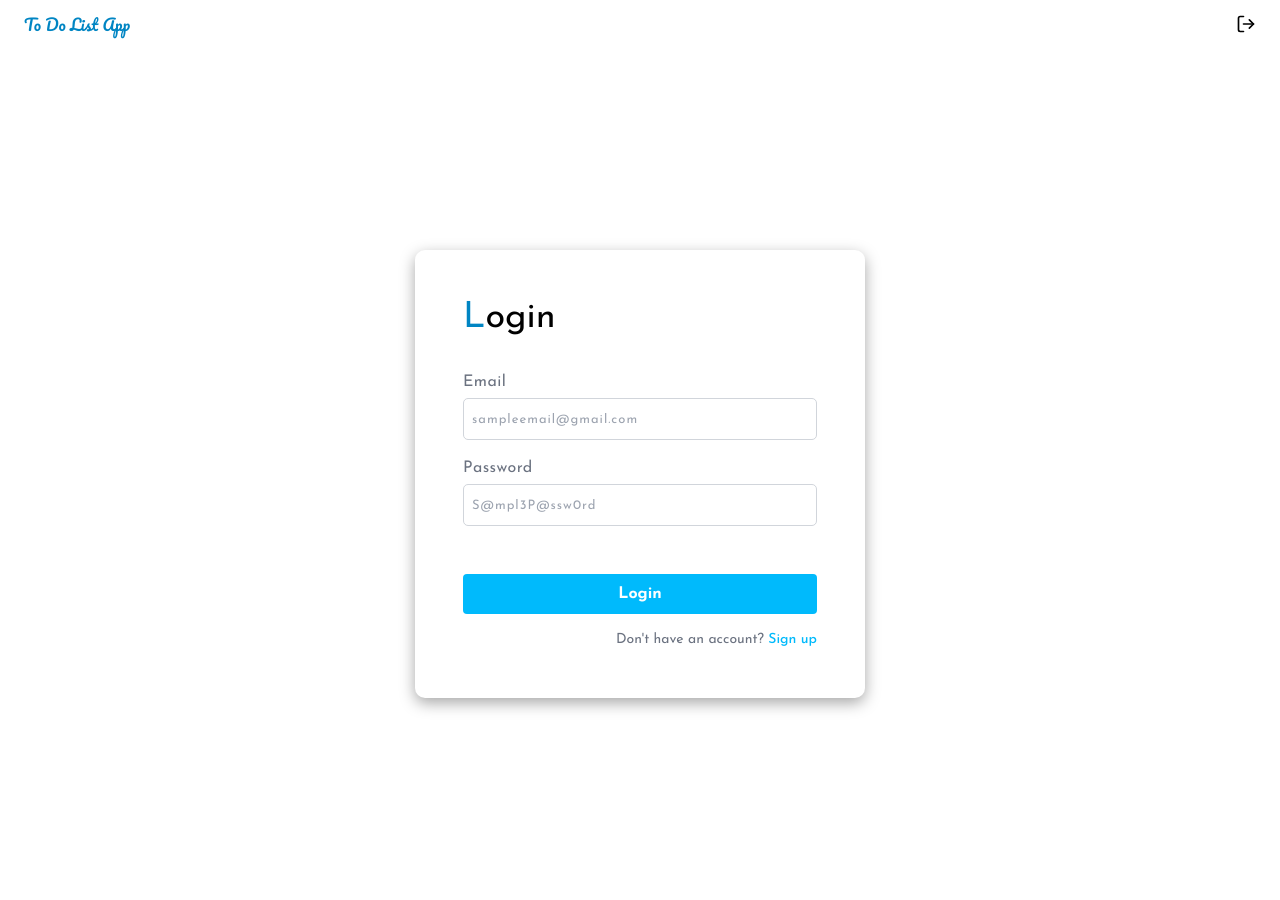
Test case: Login View › display error on empty email
Click the button "Login". click: (640, 594)
box: [463,574,817,614]
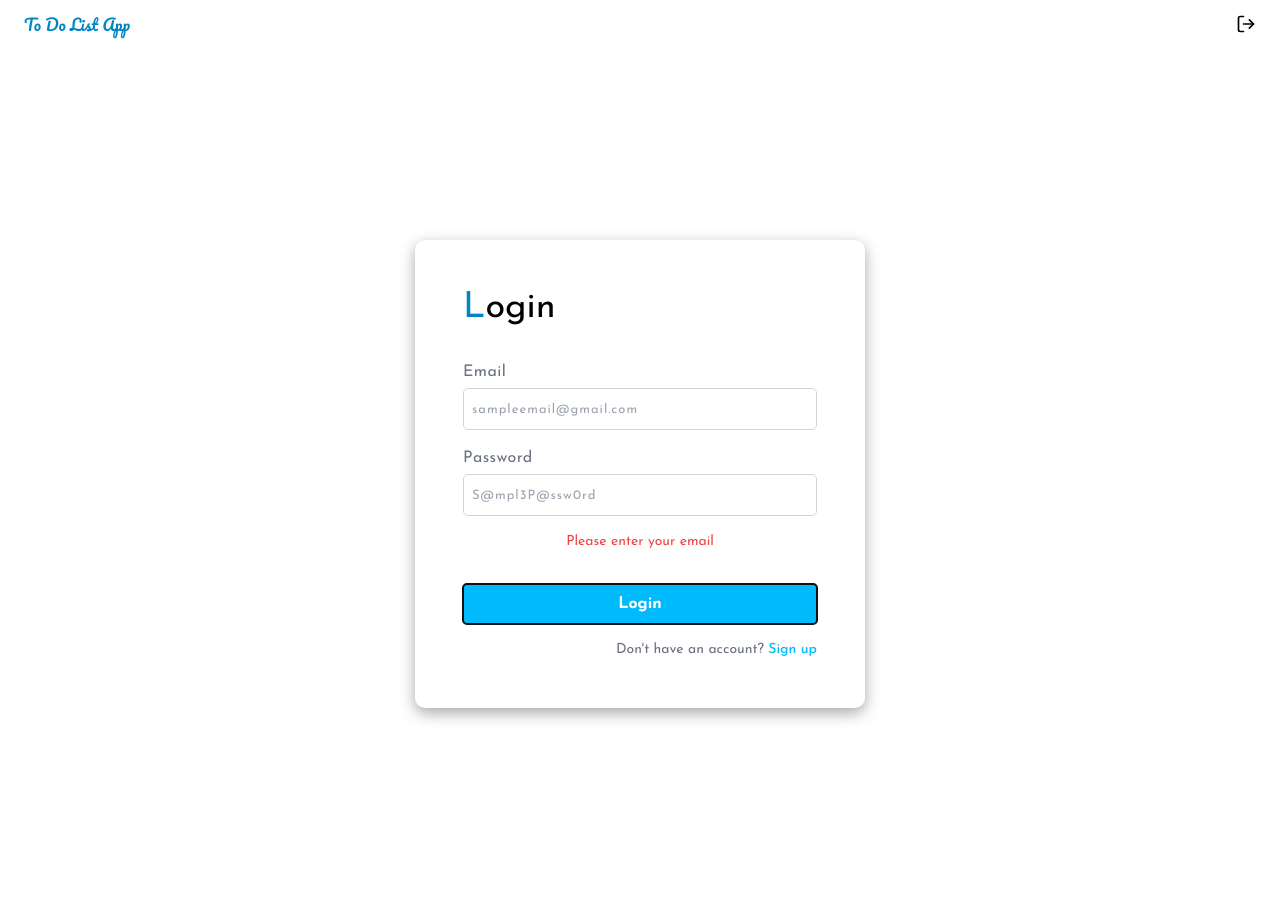
Expected: the text with test id "error-message" reads "Please enter your email", [566,534,714,549]
